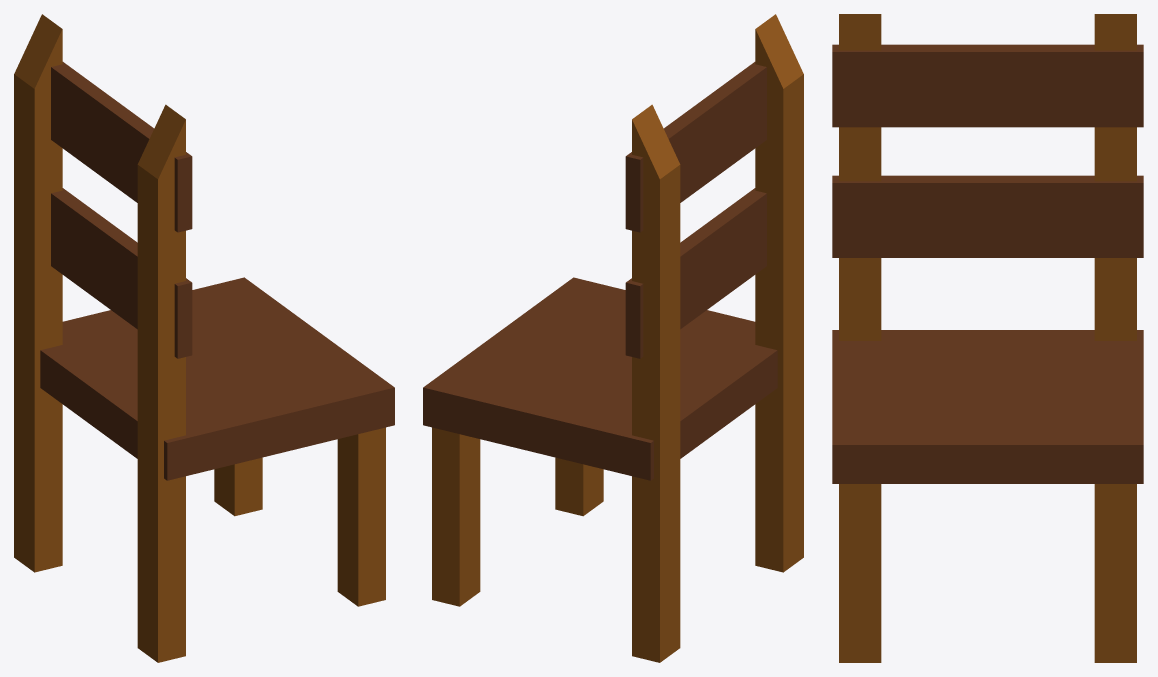
The model's file is Kursi.dae.
3 renders of one model, left to right at view 1: azimuth 30°, elevation 25°; view 2: azimuth 150°, elevation 25°; view 3: azimuth 270°, elevation 25°, orthographic. The views are drawn at different scales.
Visible parts, largest first — view 1: polySurface5_ncl1_1; view 2: polySurface5_ncl1_1; view 3: polySurface5_ncl1_1.
Boxes of the visible parts, x1,y1,x2,y2 form: polySurface5_ncl1_1: (14,14,394,662); polySurface5_ncl1_1: (423,14,803,662); polySurface5_ncl1_1: (832,14,1143,662).
Bounding box in the file's own units: 1.47 × 3.23 × 1.64.
